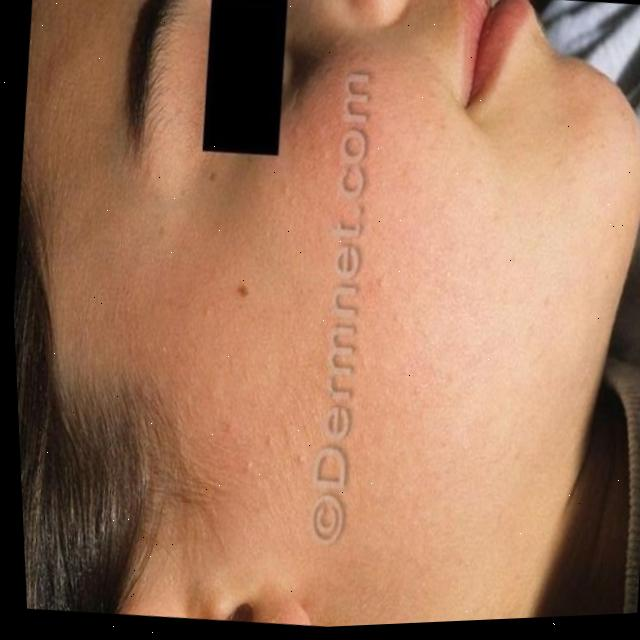Eczema: (56, 51, 444, 524)
